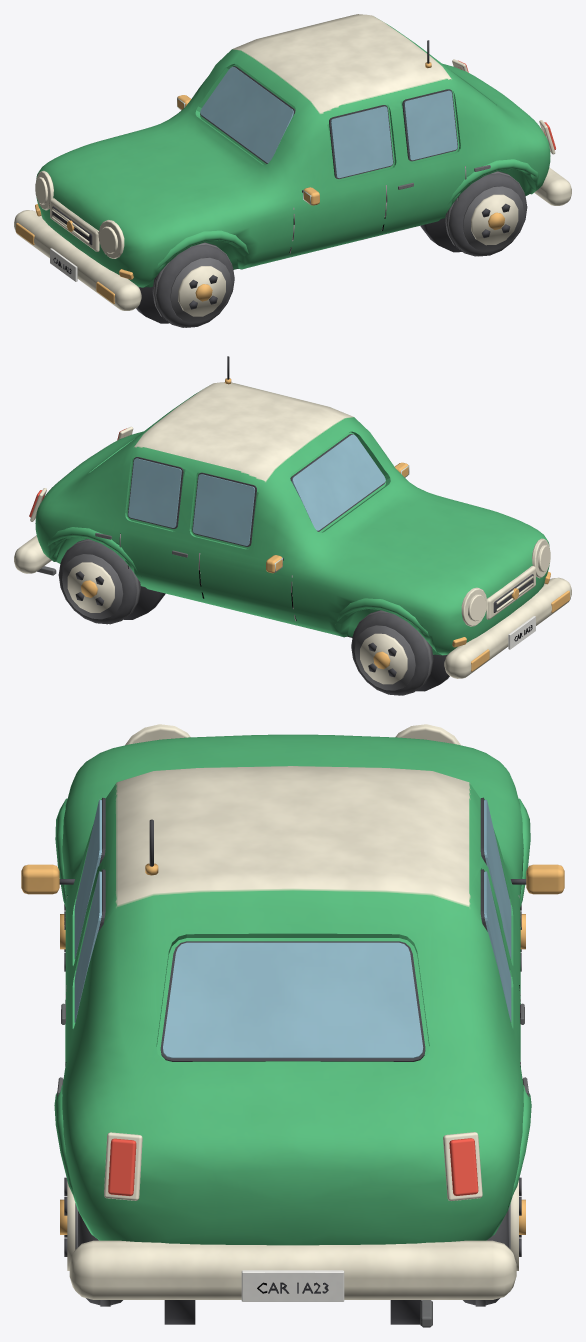
Rendered from Rig_CarGreen.fbx.
3 renders of one model, top to bottom at view 1: azimuth 30°, elevation 25°; view 2: azimuth 150°, elevation 25°; view 3: azimuth 270°, elevation 25°, orthographic. The views are drawn at different scales.
Visible parts, largest first — view 1: Transito_CarGreen__Body, Transito_CarGreen__Wheel_F_L, Transito_CarGreen__Wheel_R_L; view 2: Transito_CarGreen__Body, Transito_CarGreen__Wheel_F_R, Transito_CarGreen__Wheel_R_R; view 3: Transito_CarGreen__Body, Transito_CarGreen__Wheel_R_L, Transito_CarGreen__Wheel_R_R.
Boxes of the visible parts, box(x1,y1,x2,y2) form: Transito_CarGreen__Body: box(14, 14, 571, 323); Transito_CarGreen__Wheel_F_L: box(152, 242, 234, 327); Transito_CarGreen__Wheel_R_L: box(445, 171, 527, 256); Transito_CarGreen__Body: box(14, 356, 571, 691); Transito_CarGreen__Wheel_F_R: box(351, 610, 433, 695); Transito_CarGreen__Wheel_R_R: box(58, 539, 140, 624); Transito_CarGreen__Body: box(21, 724, 564, 1327); Transito_CarGreen__Wheel_R_L: box(60, 1177, 122, 1306); Transito_CarGreen__Wheel_R_R: box(463, 1177, 525, 1306).
Bounding box in the file's own units: 4.15 × 1.93 × 2.12.
